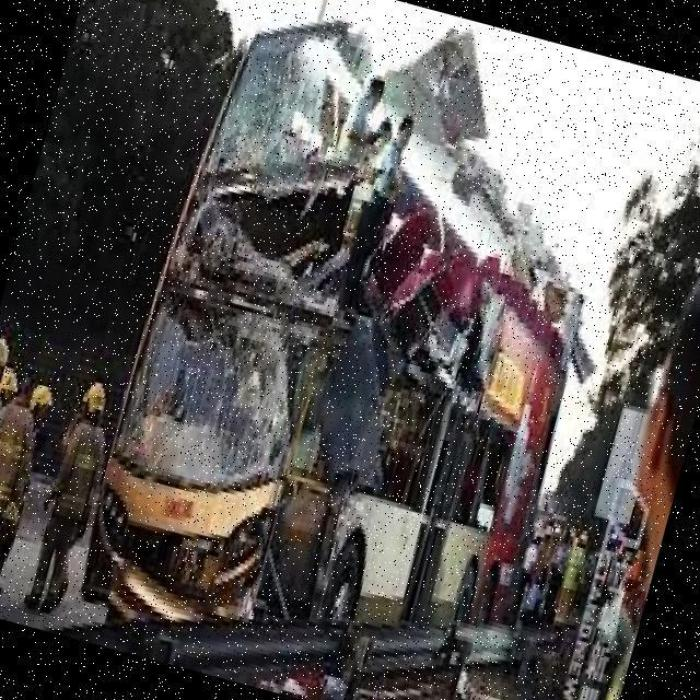Accident: (104, 19, 638, 655)
